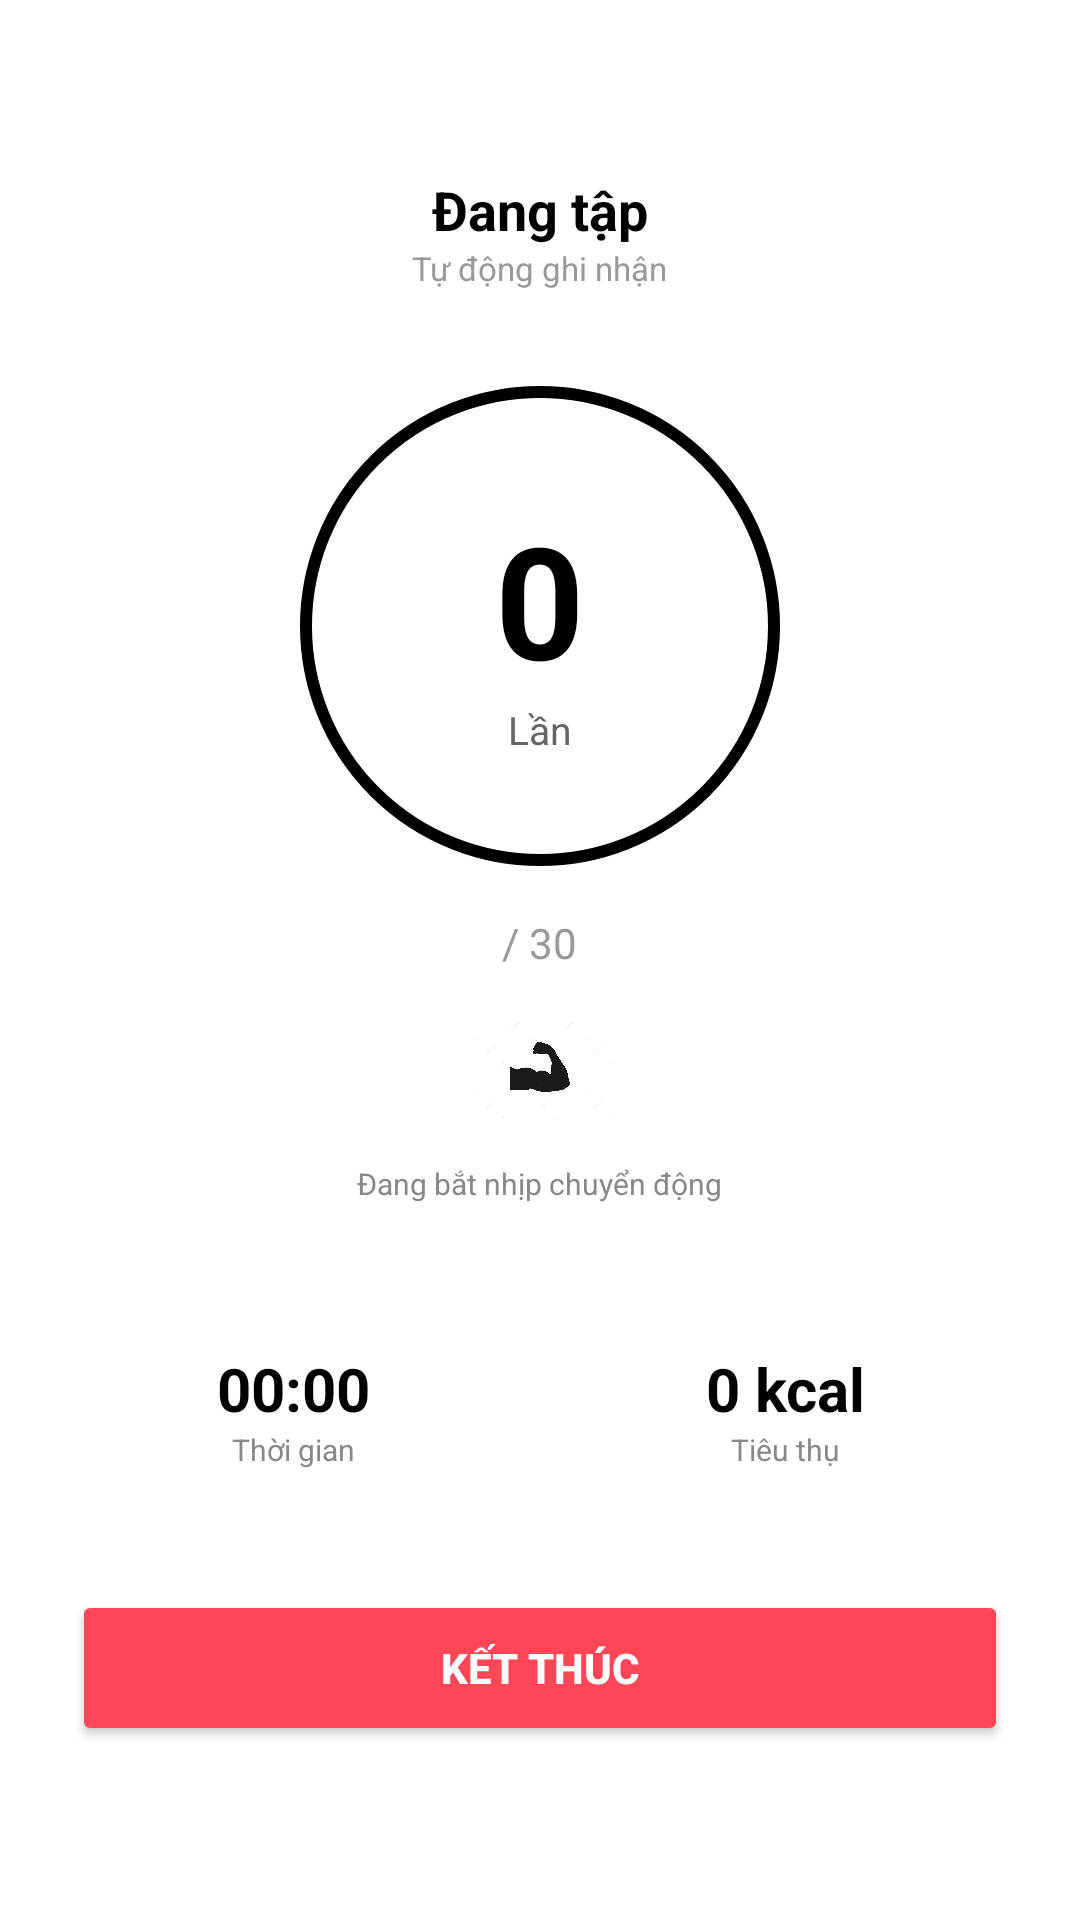

Screen size 1080 x 1920. Icon name, then its box in pixels as (x1, y1, x2, y2):
pushup: (510, 1042, 570, 1092)
